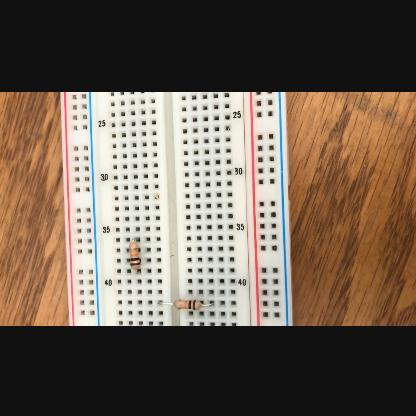breadboard: (61, 91, 295, 325)
resistor: (130, 243, 142, 269), (174, 299, 200, 309)
wire: (158, 300, 174, 304), (202, 301, 214, 305), (132, 237, 140, 241), (136, 268, 140, 274)
